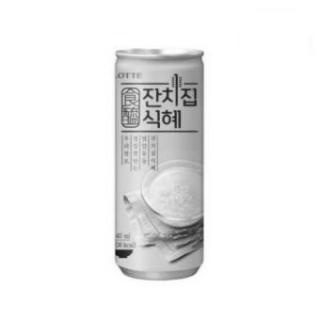alumunium_can: (103, 36, 214, 291)
